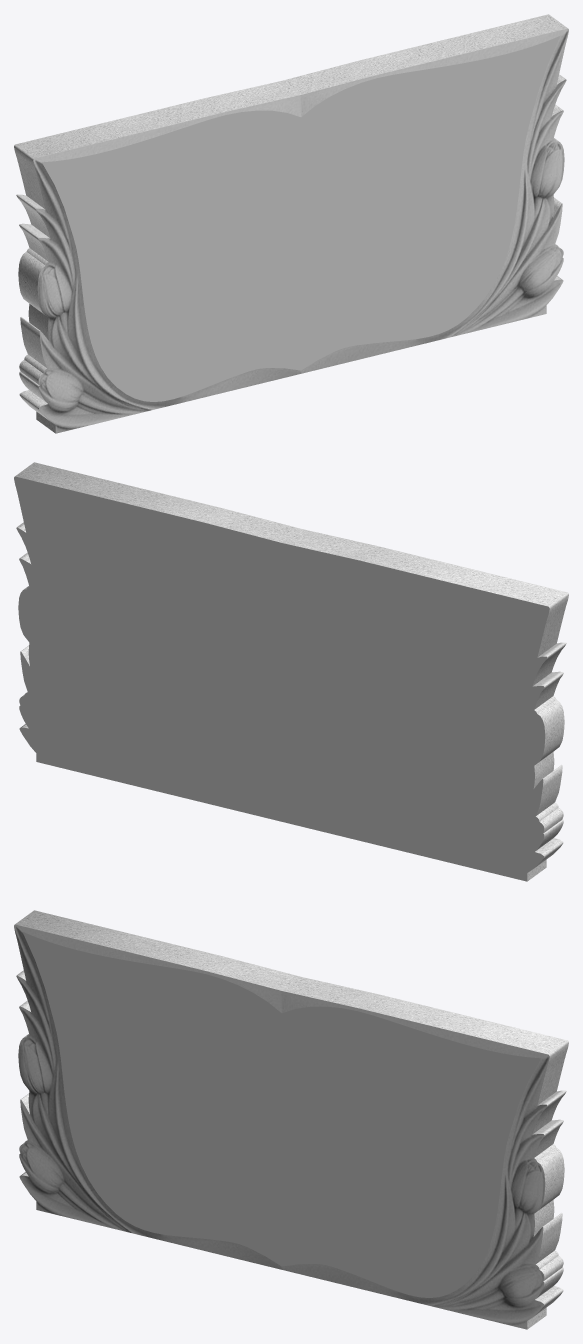
File: cnab2d3064ed_tkf.glb
3 views of the same model, one above another, from view 1: azimuth 30°, elevation 25°; view 2: azimuth 150°, elevation 25°; view 3: azimuth 330°, elevation 25° (orthographic).
Parts seen in each view (by area): view 1: Pam-d03-280, Pam-d03-280_2_notexture; view 2: Pam-d03-280, Pam-d03-280_2_notexture; view 3: Pam-d03-280, Pam-d03-280_2_notexture.
Part boxes in pixels (bbox=[...]): Pam-d03-280: bbox=[42, 36, 560, 401]; Pam-d03-280_2_notexture: bbox=[14, 14, 568, 433]; Pam-d03-280: bbox=[14, 476, 549, 881]; Pam-d03-280_2_notexture: bbox=[15, 462, 568, 881]; Pam-d03-280: bbox=[22, 932, 540, 1297]; Pam-d03-280_2_notexture: bbox=[14, 910, 568, 1329].
Bounding box in the file's own units: 0.8 × 0.4 × 0.05.
1 material, 1 textured.
